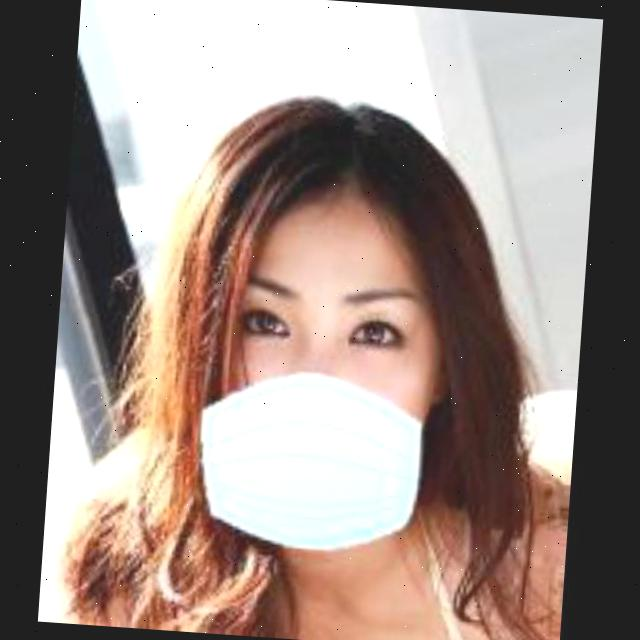suspicion: (132, 97, 497, 582)
